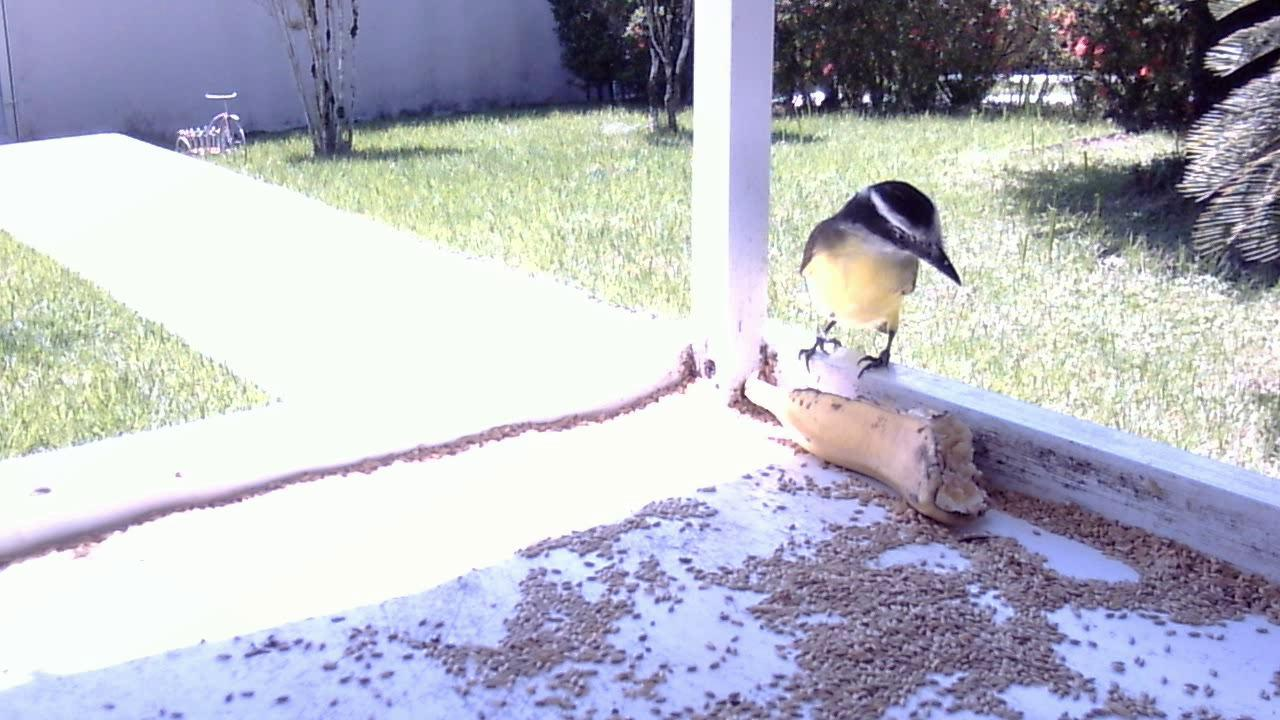bem_te_vi: (791, 179, 960, 392)
